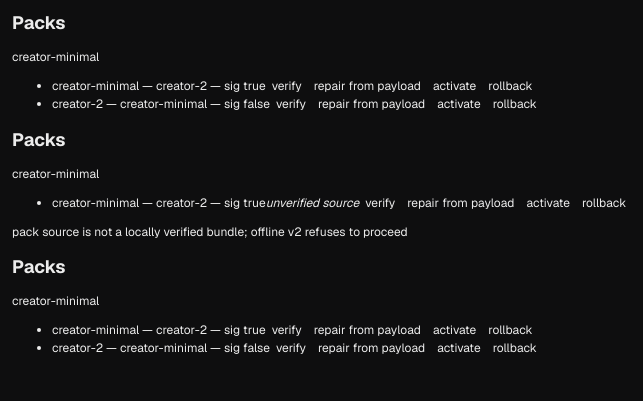
Test: PackManager › activates a pack when its signature is valid
Click the 4th button "activate": (455, 330) [427, 321, 482, 339]
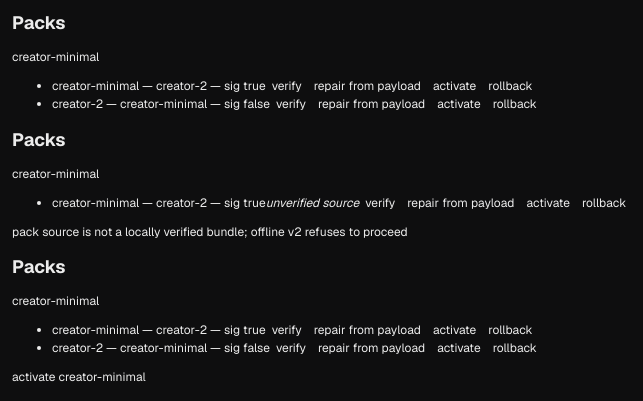
Check: the message "activate creator-minimal" is shown, box [12, 369, 146, 385]
